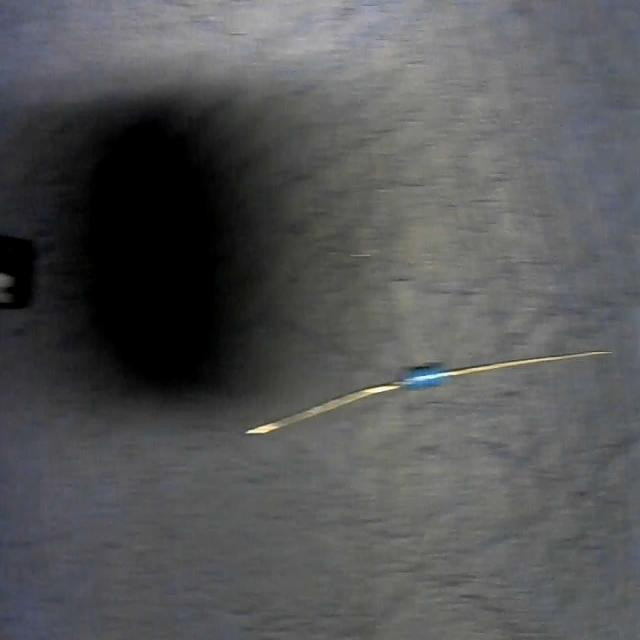resistor: (246, 347, 610, 426)
